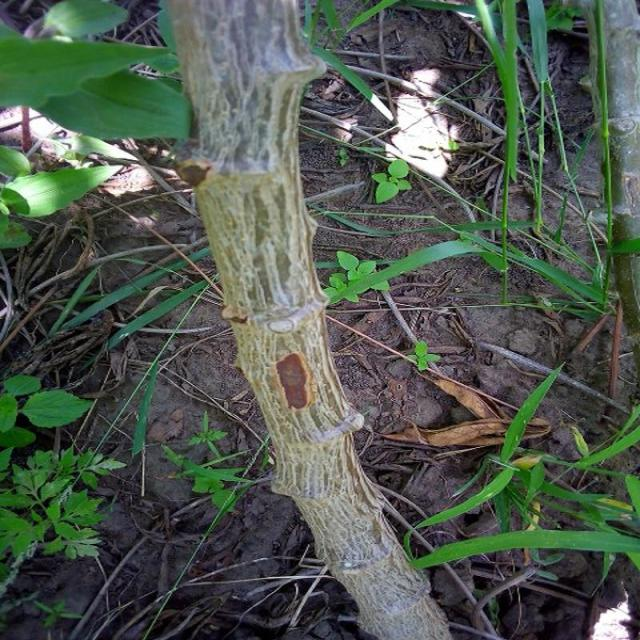cassava leaf: (161, 0, 456, 638), (2, 20, 194, 142), (2, 161, 124, 218)
